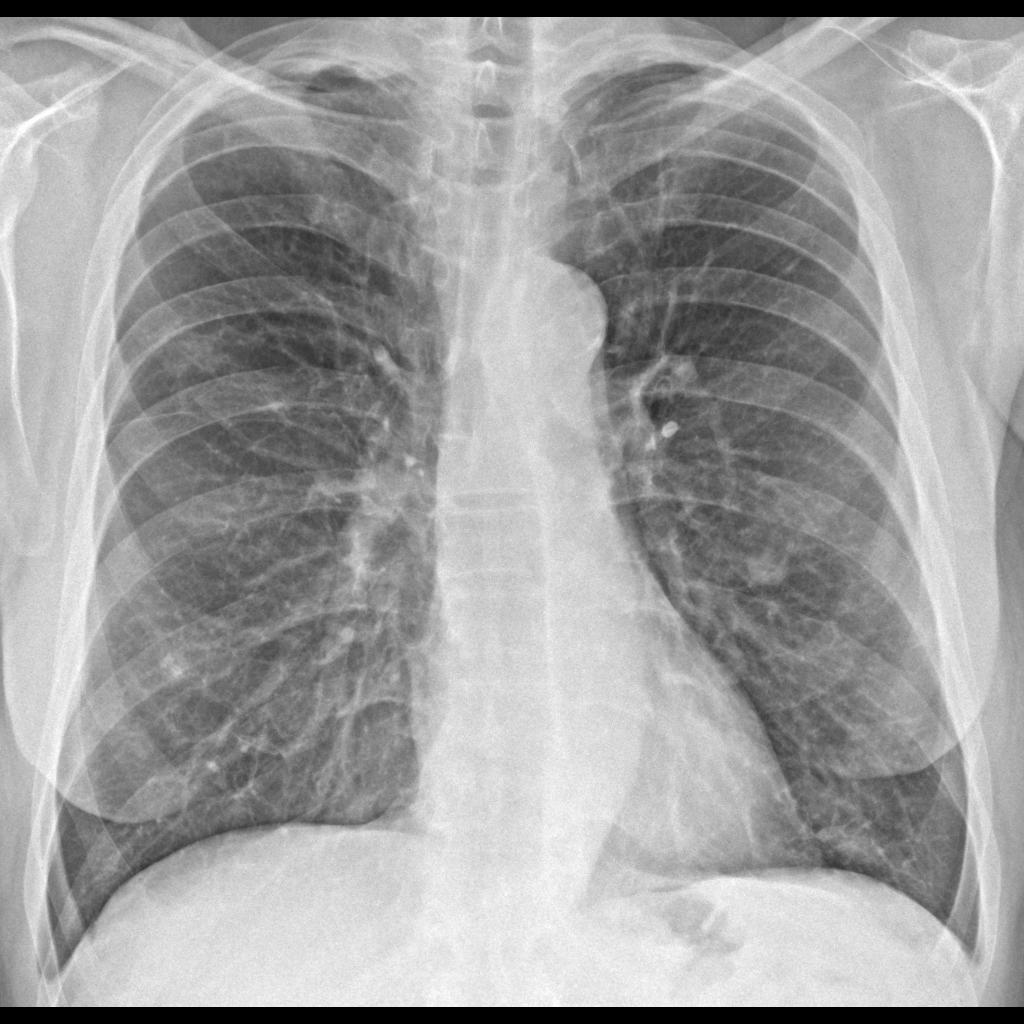Nodule: (732, 538, 798, 599)
